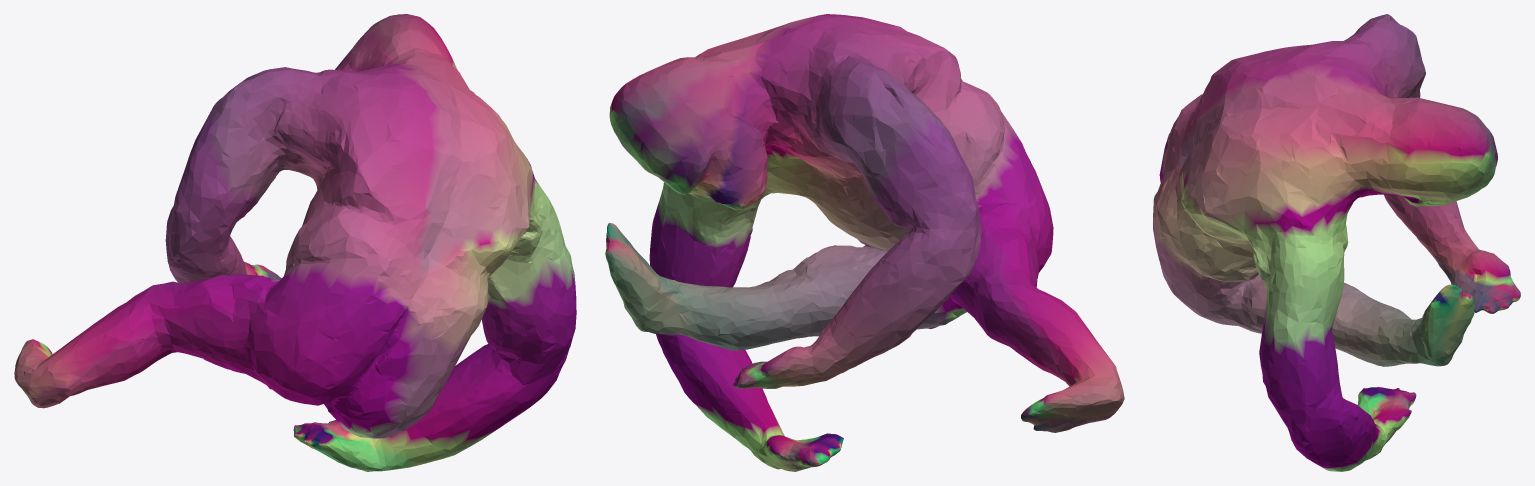
File: gorilla-20.off.obj
3 renders of one model, left to right at view 1: azimuth 30°, elevation 25°; view 2: azimuth 150°, elevation 25°; view 3: azimuth 270°, elevation 25°, orthographic. The views are drawn at different scales.
Size of the model in its own units: 1.41 by 1.11 by 0.9468.
